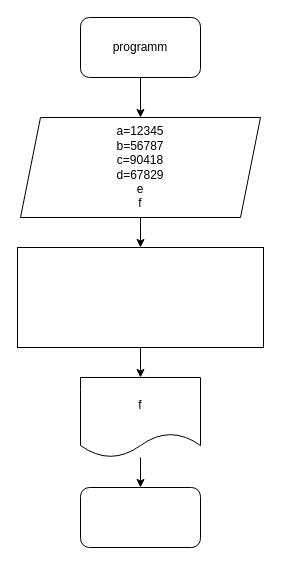
Image size: 281x565. Some labels were removed from this diagram. Here are the shapes that lost their labels. From the top down, the centre of each, then its label:
the point at 140,297: e=(a+c)*(b+d) f=e-c*3/100
the point at 140,517: finish
